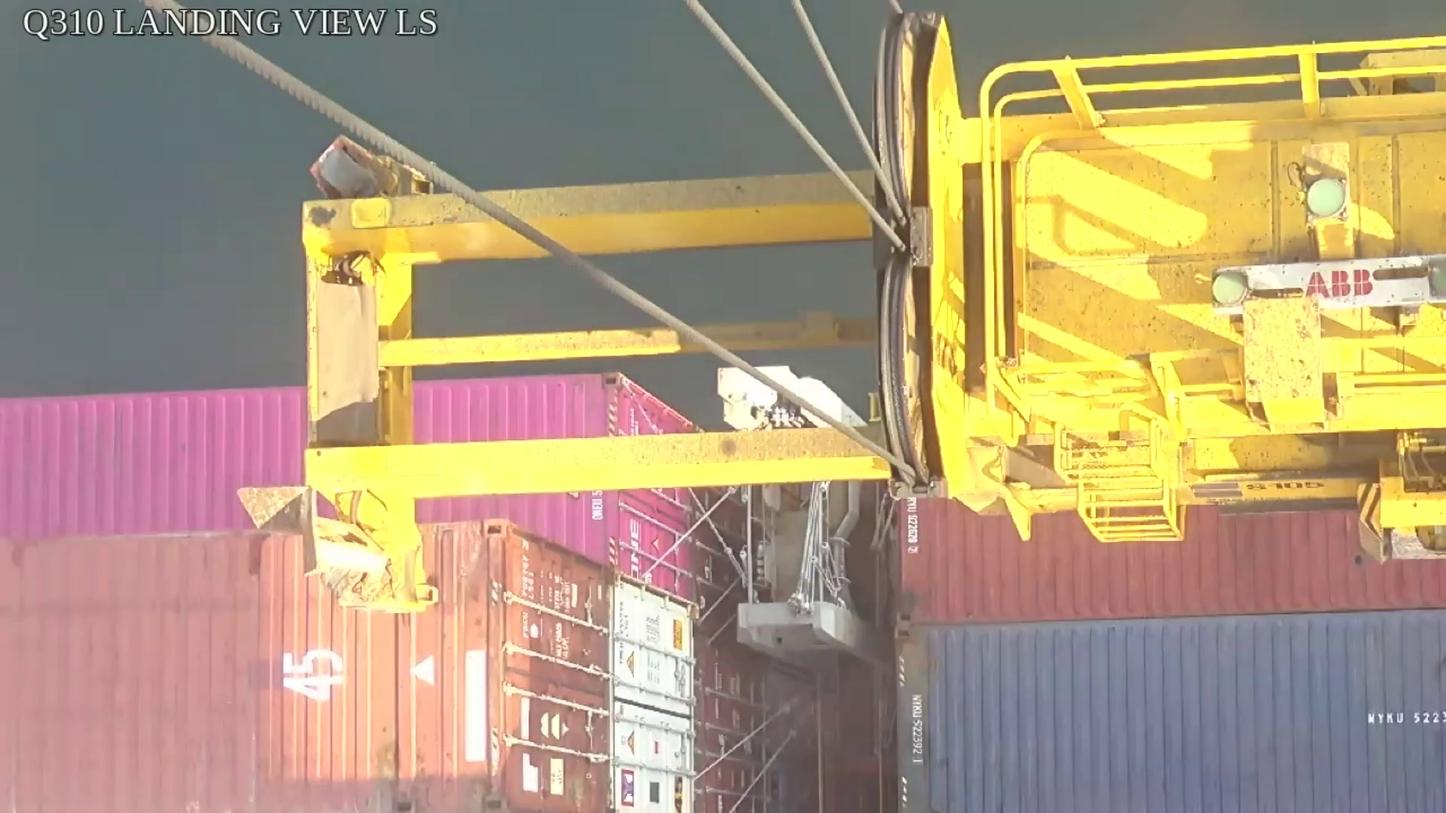aa: (874, 8, 970, 506)
